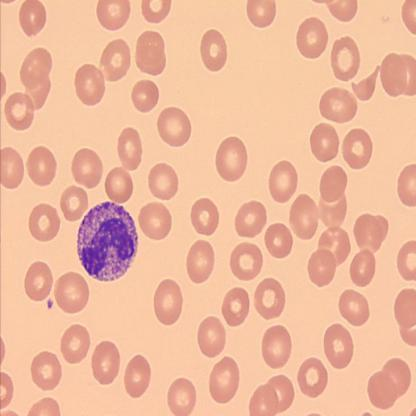Band Neutrophil: (75, 196, 139, 284)
